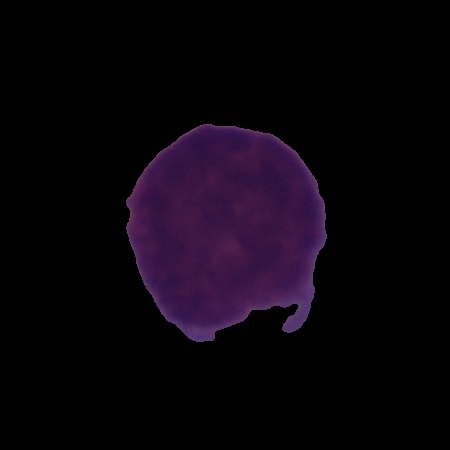ALL: (122, 120, 330, 344)
